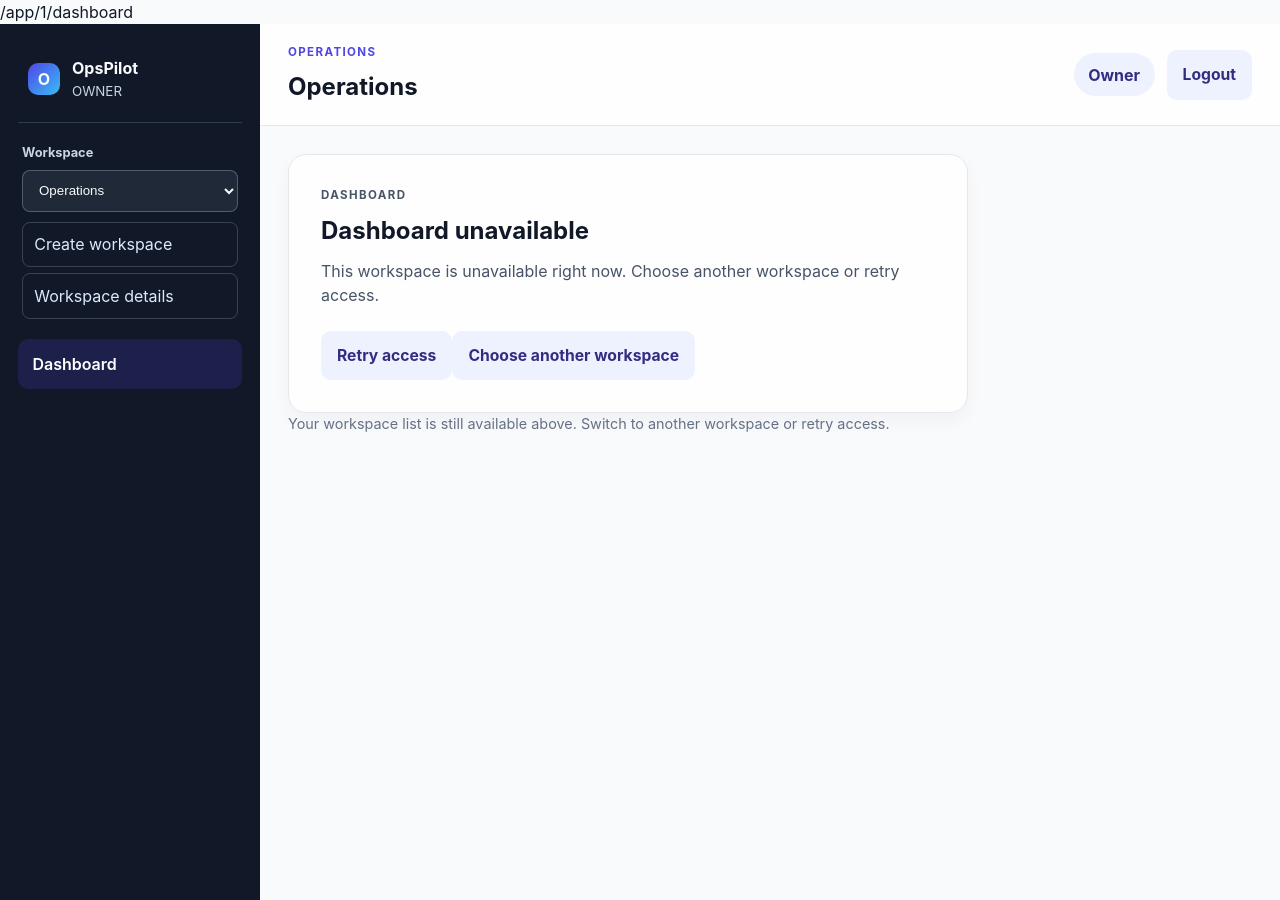
Scenario: F2 workspace behavior › keeps a single-workspace Dashboard 404 in bounded recovery until explicit retry
Expected: the heading "Dashboard unavailable" is shown, [321,216,589,244]
Expected: the button "Retry access" is shown, [321,330,452,380]
Click the button "Choose another workspace". click: (574, 355)
box: [452,330,695,380]
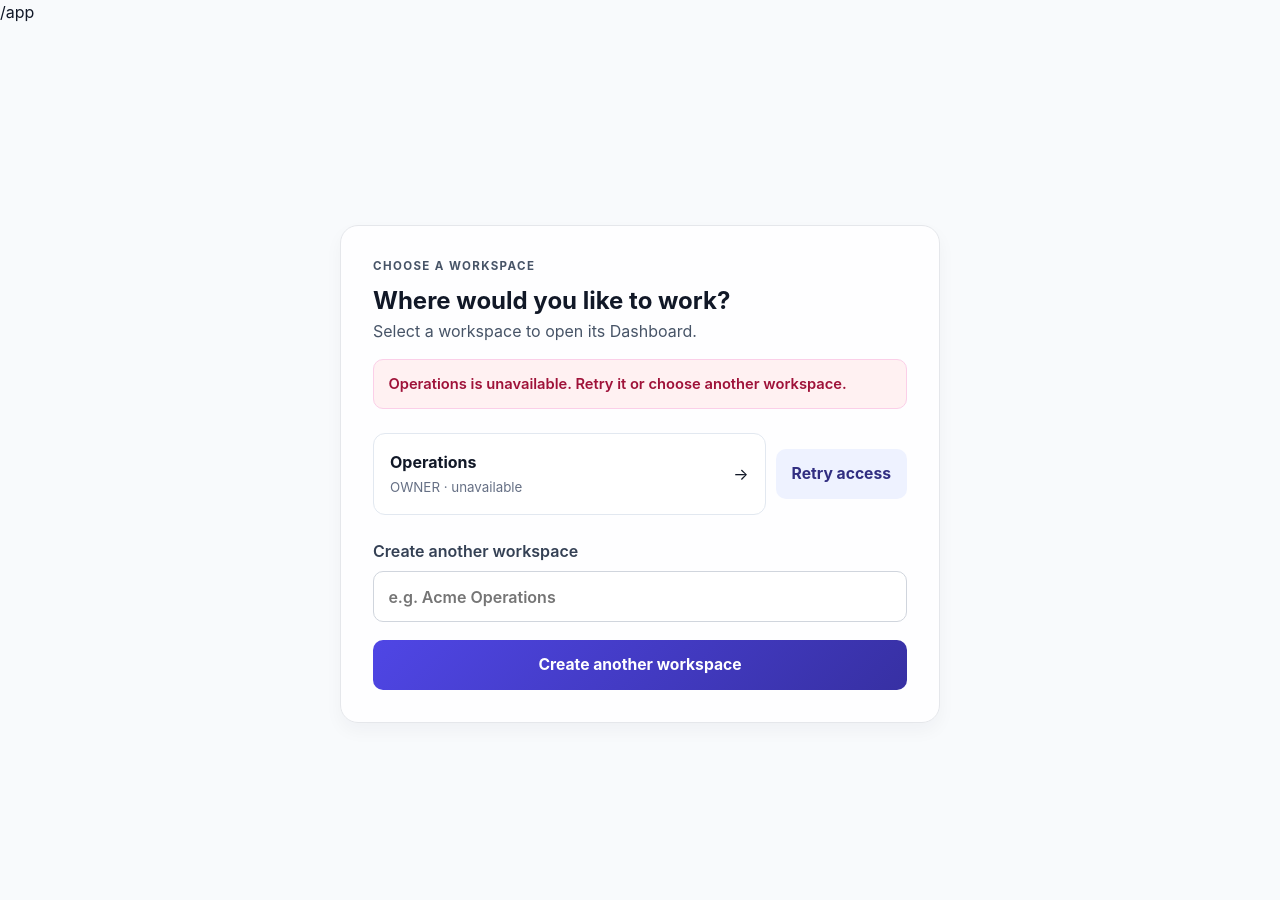
Expected: the text named "Current route" reads "/app", [0,2,34,22]
Expected: the text "Operations is unavailable. Retry it or choose another workspace." is shown, [373,359,907,409]
Click the button "Retry access". click: (841, 474)
box: [776,449,907,499]
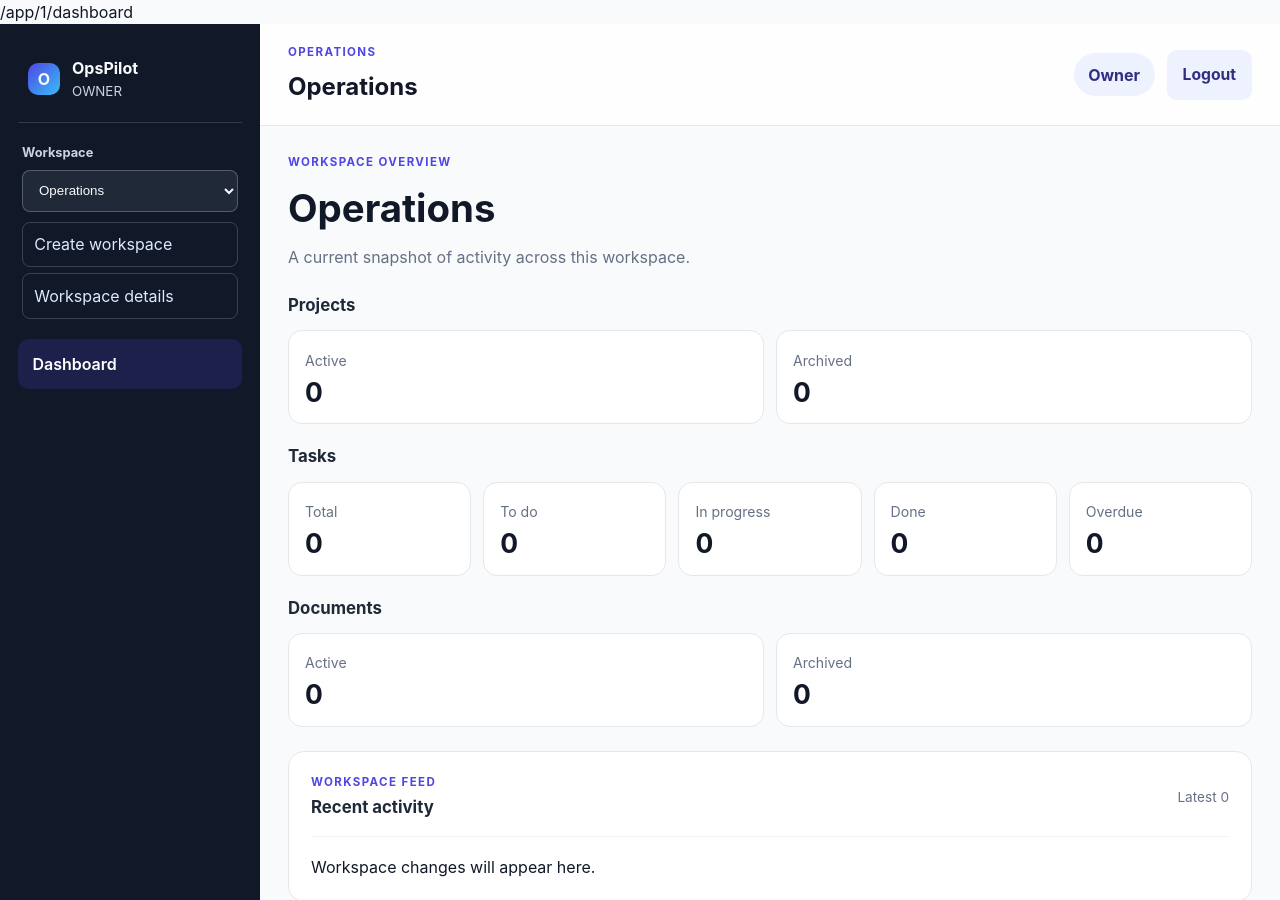
Expected: the heading "Operations" below "Workspace overview" is shown, [288,184,496,230]
Expected: the text named "Current route" reads "/app/1/dashboard", [0,2,133,22]
